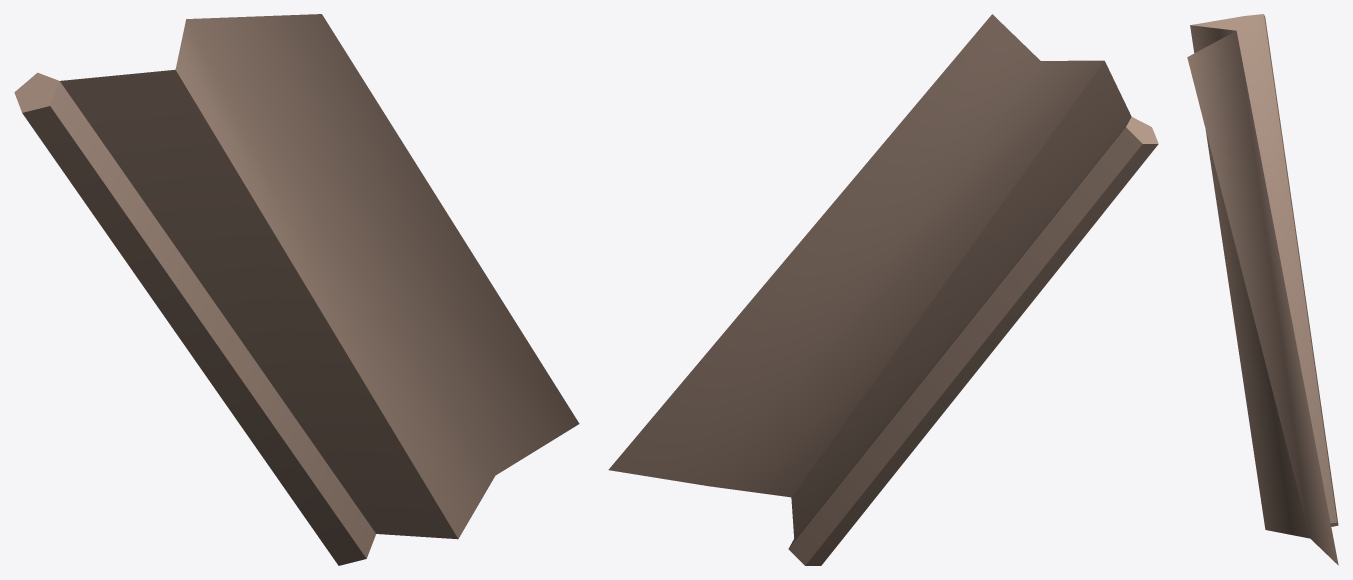
Rendered from K_GOMI11.glb.
3 renders of one model, left to right at view 1: azimuth 30°, elevation 25°; view 2: azimuth 150°, elevation 25°; view 3: azimuth 270°, elevation 25°, orthographic. The views are drawn at different scales.
Parts seen in each view (by area): view 1: FRAME_ROOT; view 2: FRAME_ROOT; view 3: FRAME_ROOT.
Boxes of the visible parts, x1,y1,x2,y2 form: FRAME_ROOT: [14, 14, 579, 565]; FRAME_ROOT: [608, 14, 1158, 565]; FRAME_ROOT: [1187, 14, 1338, 565].
Size of the model in its own units: 4 by 3.98 by 1.26.
Materials: 1 (1 with a texture image).
